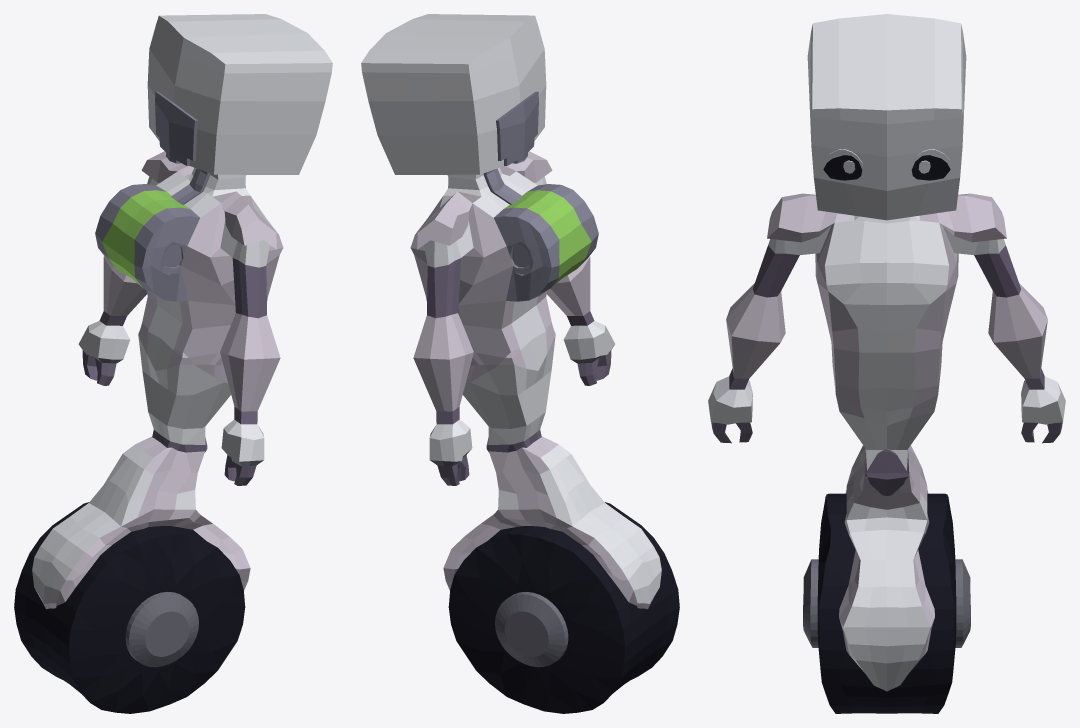
Rendered from RollingBotAnim.fbx.
The picture shows the model from 3 angles, left to right: view 1: azimuth 30°, elevation 25°; view 2: azimuth 150°, elevation 25°; view 3: azimuth 270°, elevation 25°; orthographic projection. The views are drawn at different scales.
Parts seen in each view (by area): view 1: Cube.001; view 2: Cube.001; view 3: Cube.001.
Part boxes in pixels (box(x1,y1,x2,y2)): Cube.001: box(14, 14, 332, 713); Cube.001: box(361, 14, 679, 713); Cube.001: box(708, 14, 1065, 713).
Bounding box in the file's own units: 821 × 1897 × 856.
1 material, 1 textured.
